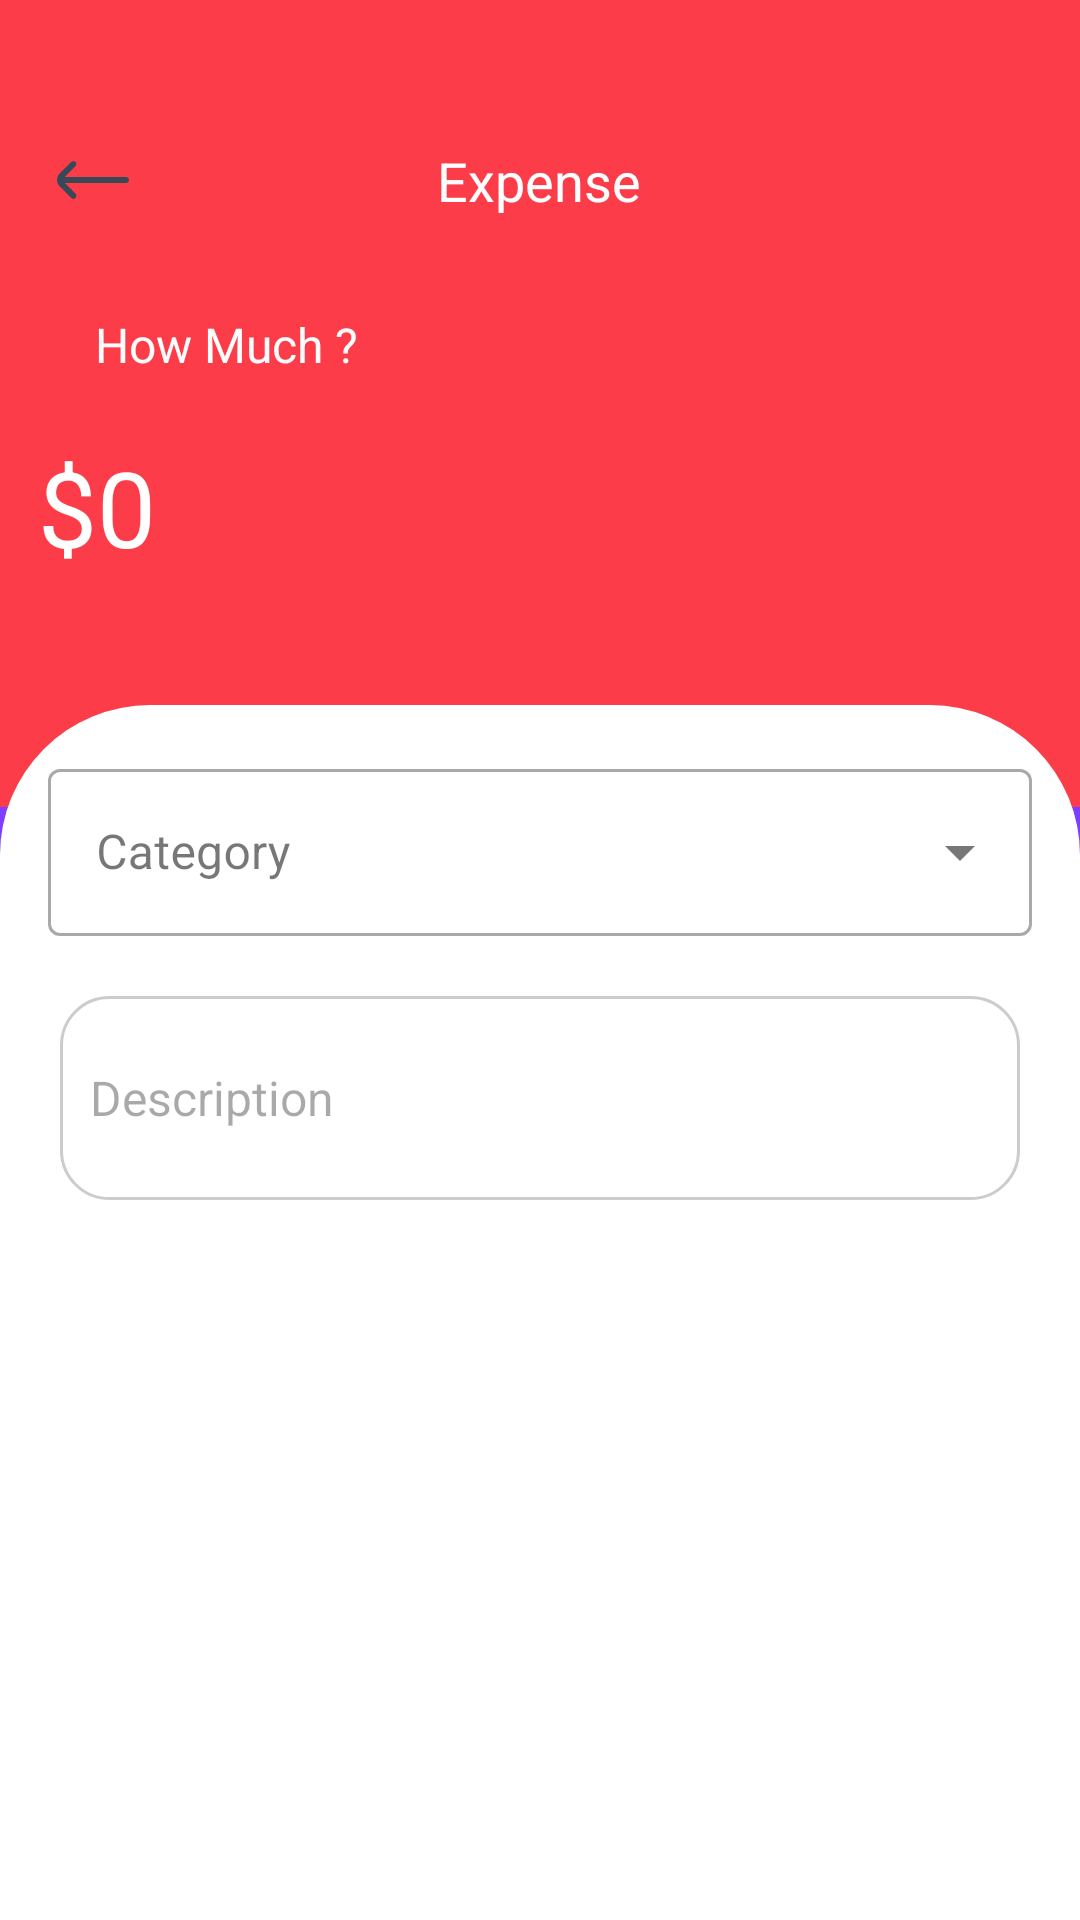

Icons on this 1080 x 1920 Android screen, each with the point to tap as (x=x, y=y):
arrow left: (x=93, y=180)
